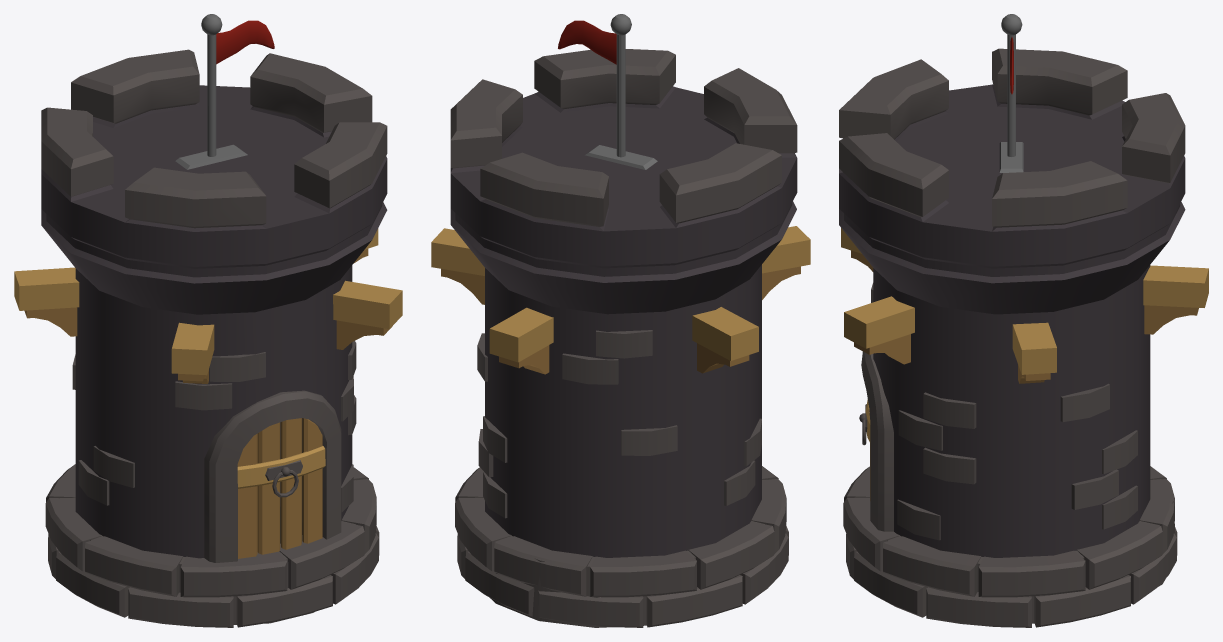
File: tower.glb
3 renders of one model, left to right at view 1: azimuth 30°, elevation 25°; view 2: azimuth 150°, elevation 25°; view 3: azimuth 270°, elevation 25°, orthographic.
Parts seen in each view (by area): view 1: Tower; view 2: Tower; view 3: Tower.
Part boxes in pixels (x1,y1,x2,y2): Tower: (14, 14, 402, 627); Tower: (431, 14, 810, 627); Tower: (839, 14, 1208, 627).
Size of the model in its own units: 9.44 by 14.6 by 8.98.
1 material, 1 textured.
